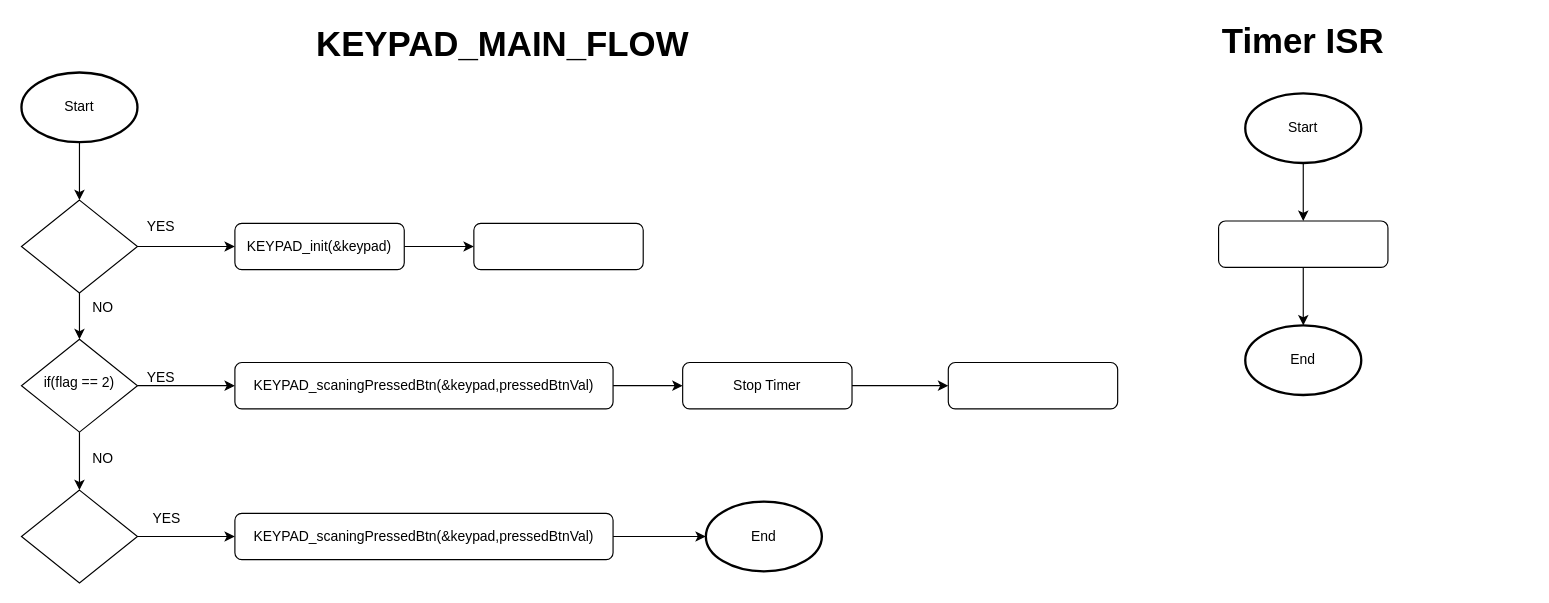
This 1549x603 diagram has some shape labels left out. Each missing label, with the box of its shape:
flag ++: (473, 222, 643, 270)
flag = 3: (1217, 220, 1388, 267)
if(flag == 1): (20, 199, 137, 293)
if(flag == 3): (20, 489, 137, 583)
Start Timer: (947, 361, 1118, 409)
